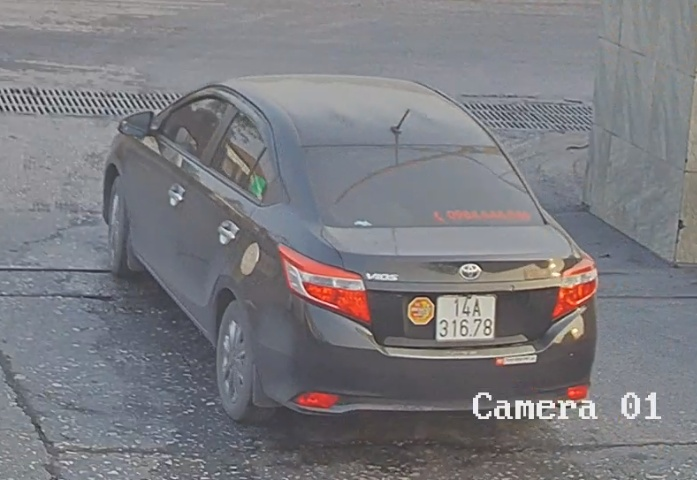vehicle plate: (433, 286, 499, 341)
